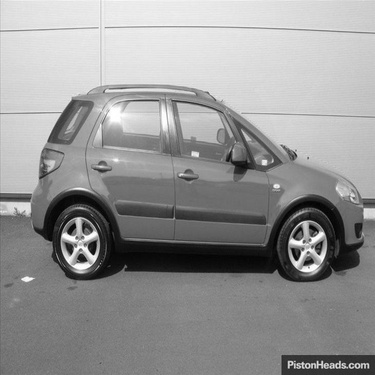car: (10, 67, 367, 286)
